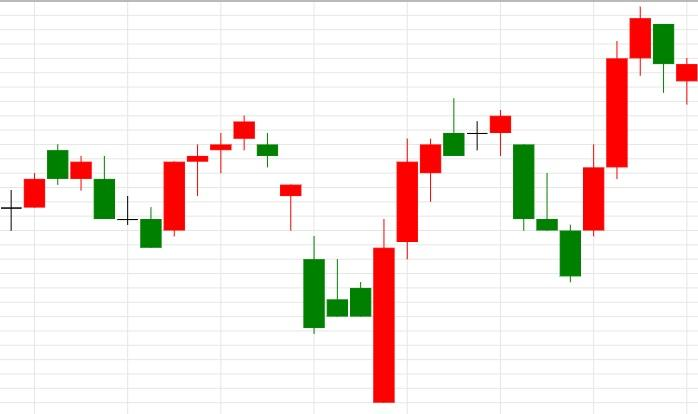bullish_engulfing_rise: (232, 116, 396, 404)
